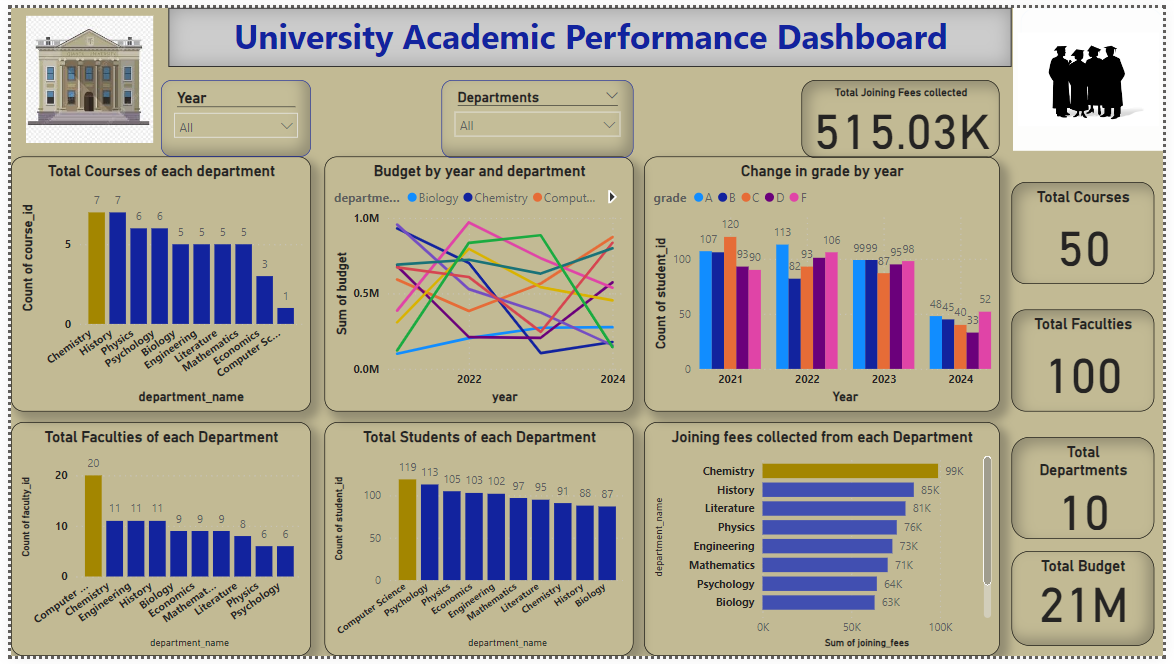

The dashboard page shown, as its layout file describes it:
{"tool":"powerbi","page":{"name":"Department","canvas":[1280,720],"ordinal":0},"visuals":[{"type":"clusteredColumnChart","title":"Total Courses of each department","fields":{"Y":["CountNonNull(university_education courses.course_id)"],"Category":["university_education departments.department_name"]},"box":[0,165,333.3,283.3],"z":0},{"type":"clusteredColumnChart","title":"Total Faculties of each Department","fields":{"Category":["university_education departments.department_name"],"Y":["CountNonNull(university_education faculty.faculty_id)"]},"box":[0,460,333.3,260],"z":1000},{"type":"clusteredColumnChart","title":"Total Students of each Department","fields":{"Y":["Count(university_education students.student_id)"],"Category":["university_education departments.department_name"]},"box":[348.3,460,343.3,260],"z":2000},{"type":"lineChart","title":"Budget by year and department","fields":{"Category":["university_education departmental_budgets.year"],"Series":["university_education departments.department_name"],"Y":["Sum(university_education departmental_budgets.budget)"]},"box":[348.3,165,343.3,283.3],"z":3000},{"type":"card","title":"Total Departments","fields":{"Values":["CountNonNull(university_education departments.department_id)"]},"box":[1111.7,476.7,158.3,113.3],"z":4000},{"type":"clusteredColumnChart","title":"Change in grade by year","fields":{"Series":["university_education grades.grade"],"Y":["CountNonNull(university_education enrollments.student_id)"],"Category":["university_education enrollments.enrollment_date.Variation.Date Hierarchy.Year"]},"box":[703.3,165,395,283.3],"z":5000},{"type":"card","title":"Total Budget","fields":{"Values":["Sum(university_education departmental_budgets.budget)"]},"box":[1111.7,603.3,158.3,105],"z":6000},{"type":"slicer","fields":{"Values":["university_education departmental_budgets.year"]},"box":[166.7,80,166.7,85],"z":7000},{"type":"clusteredBarChart","title":"Joining fees collected from each Department","fields":{"Y":["Sum(university_education courses.joining_fees)"],"Category":["university_education departments.department_name"]},"box":[703.3,460,395,260],"z":8000},{"type":"textbox","box":[175,0,936.7,65],"z":9000},{"type":"image","box":[0,3.3,175,151.7],"z":10000},{"type":"shape","box":[1121.7,0,158.3,65],"z":11000},{"type":"slicer","fields":{"Values":["university_education departments.department_name"]},"box":[478.3,80,213.3,86.7],"z":12000},{"type":"card","title":"Total Faculties","fields":{"Values":["CountNonNull(university_education faculty.faculty_id)"]},"box":[1111.7,335,158.3,113.3],"z":13000},{"type":"image","box":[1113.3,0,166.7,158.3],"z":14000},{"type":"card","title":"Total Joining Fees collected","fields":{"Values":["Avg(university_education faculty.Salary)"]},"box":[878.3,80,220,86.7],"z":14001},{"type":"card","title":"Total Courses","fields":{"Values":["CountNonNull(university_education courses.course_id)"]},"box":[1111.7,193.3,158.3,113.3],"z":14002}]}

Visuals, with their boxes in screenshot pixels (x1, y1, x2, y2), scaled from the page's 1280x720 canvas onto the 1174x664 screenshot:
"Total Courses of each department" clusteredColumnChart: 0 152 306 413
"Total Faculties of each Department" clusteredColumnChart: 0 424 306 663
"Total Students of each Department" clusteredColumnChart: 319 424 634 663
"Budget by year and department" lineChart: 319 152 634 413
"Total Departments" card: 1020 440 1165 544
"Change in grade by year" clusteredColumnChart: 645 152 1007 413
"Total Budget" card: 1020 556 1165 653
slicer - university_education departmental_budgets.year: 153 74 306 152
"Joining fees collected from each Department" clusteredBarChart: 645 424 1007 663
textbox: 161 0 1020 60
image: 0 3 161 143
shape: 1029 0 1173 60
slicer - university_education departments.department_name: 439 74 634 154
"Total Faculties" card: 1020 309 1165 413
image: 1021 0 1173 146
"Total Joining Fees collected" card: 806 74 1007 154
"Total Courses" card: 1020 178 1165 283
